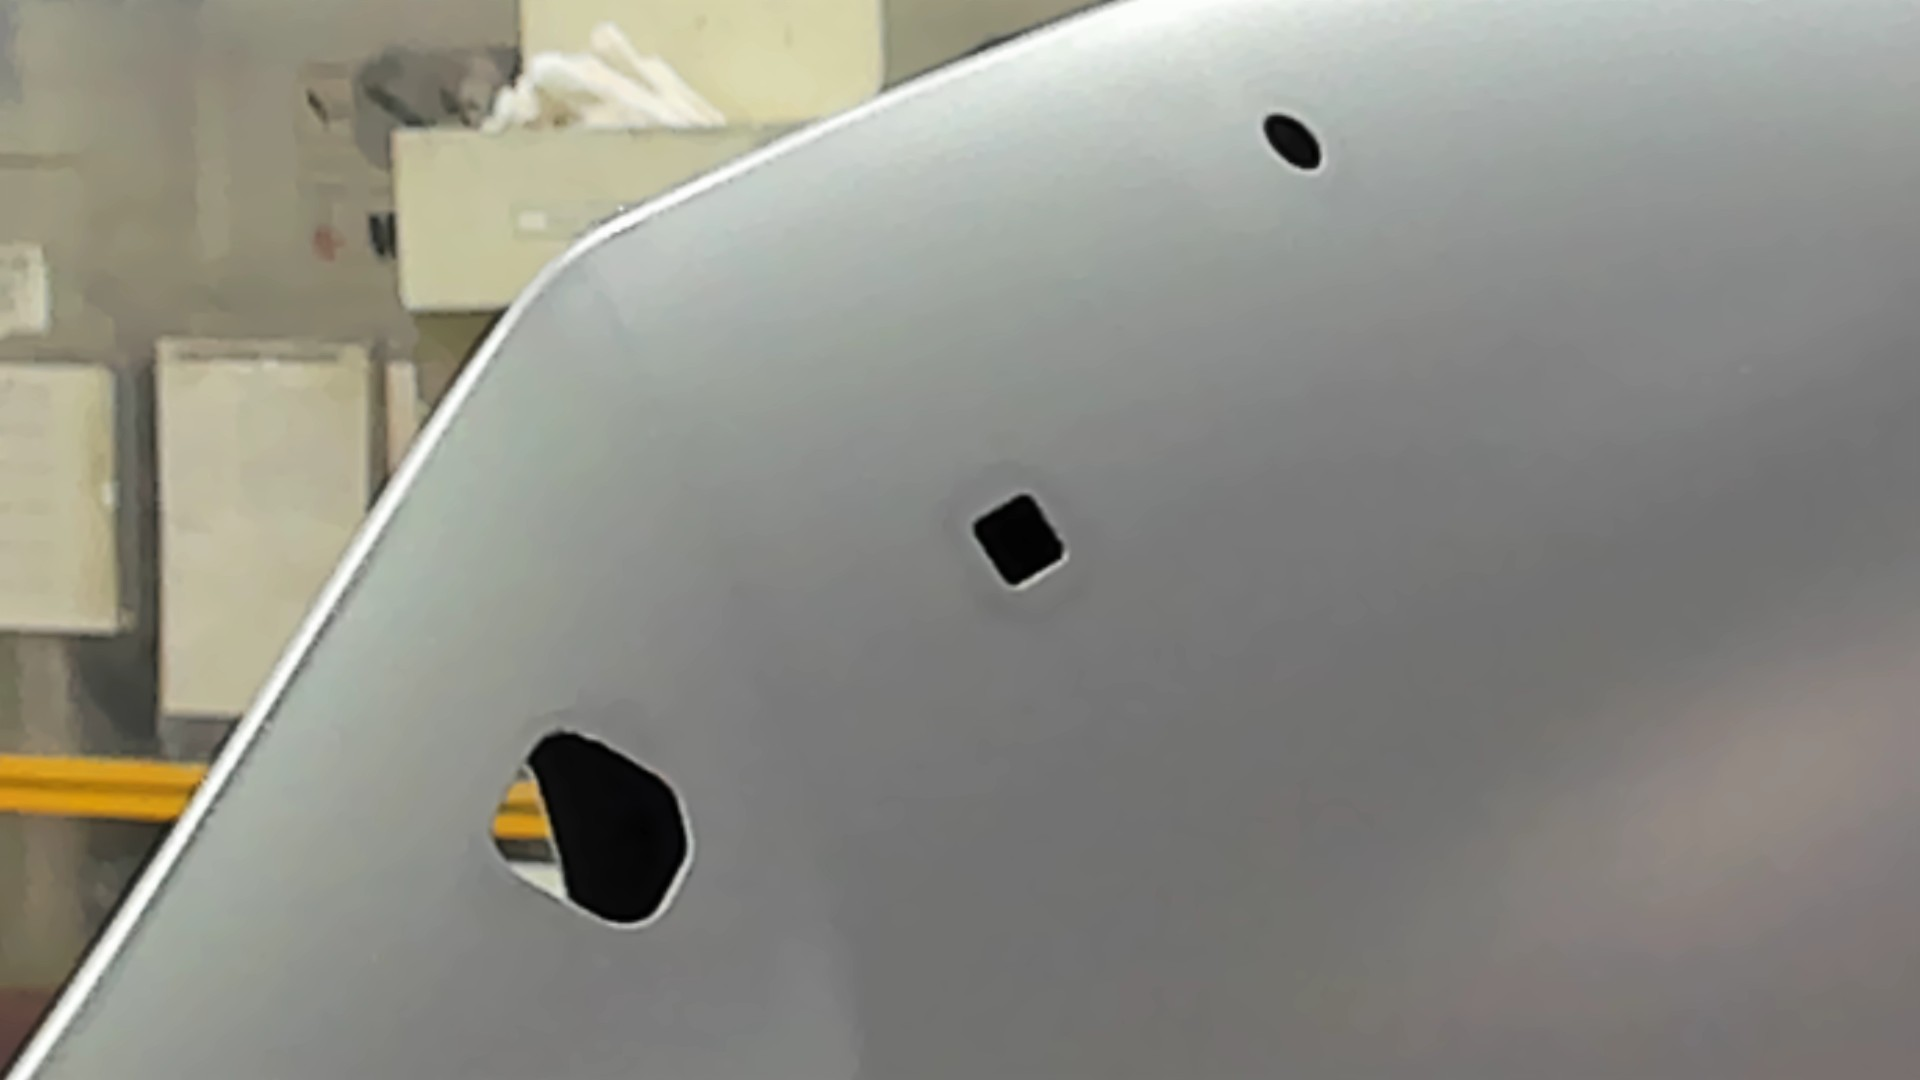chico: (1257, 108, 1328, 175)
grande: (483, 723, 700, 936)
mediano: (969, 487, 1071, 599)
